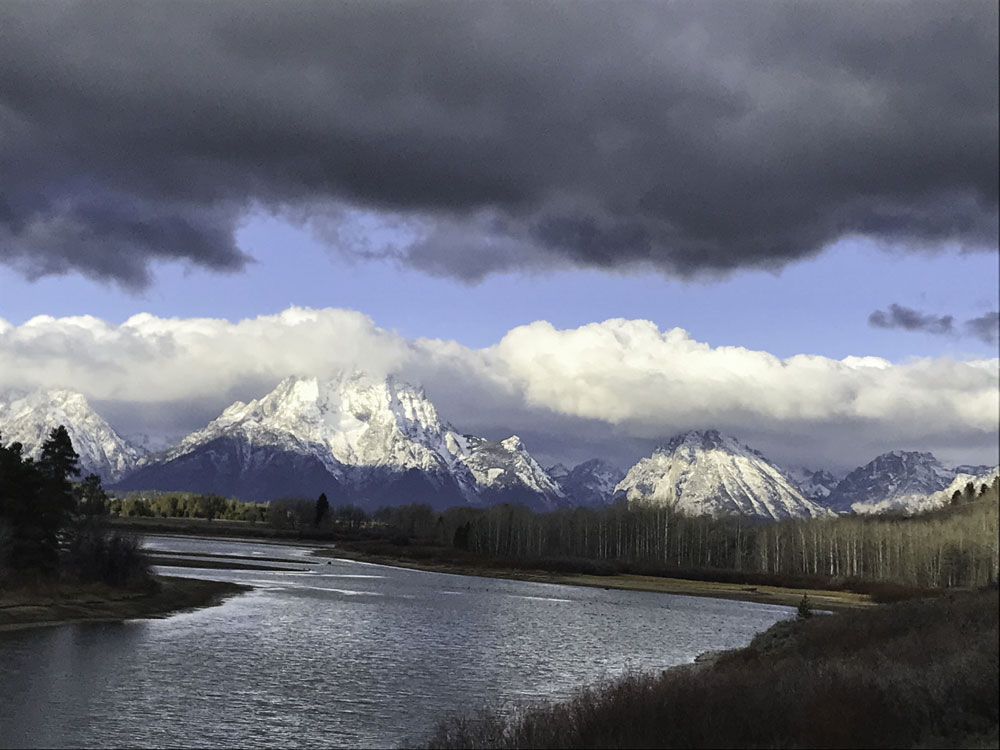Stratus: (8, 6, 993, 265), (9, 292, 1000, 440)
